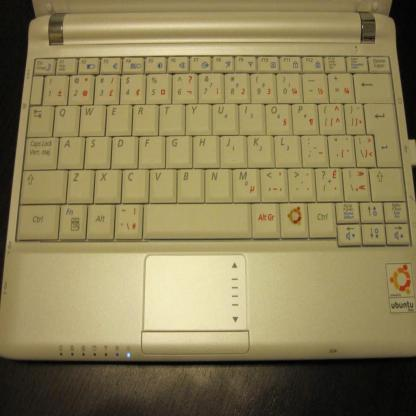board: (0, 0, 416, 361)
